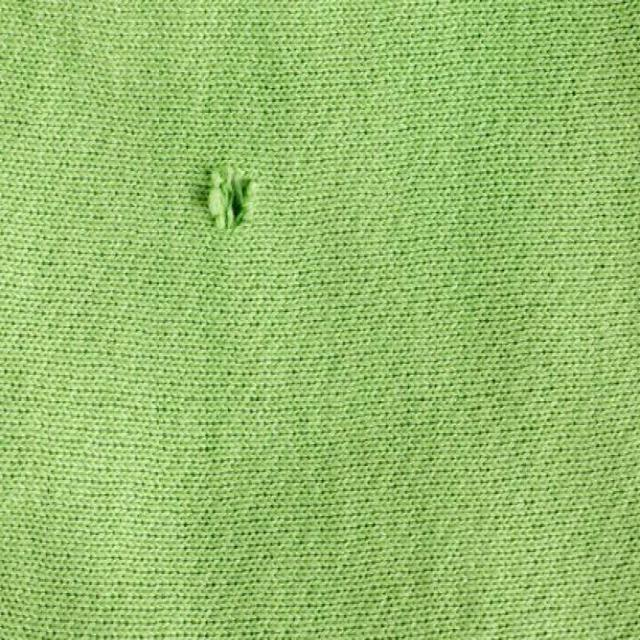Hole: (207, 163, 250, 228)
